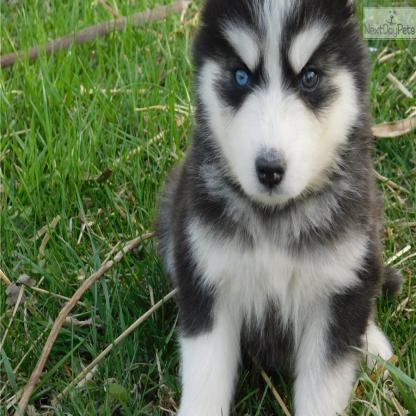husky: (154, 0, 387, 408)
